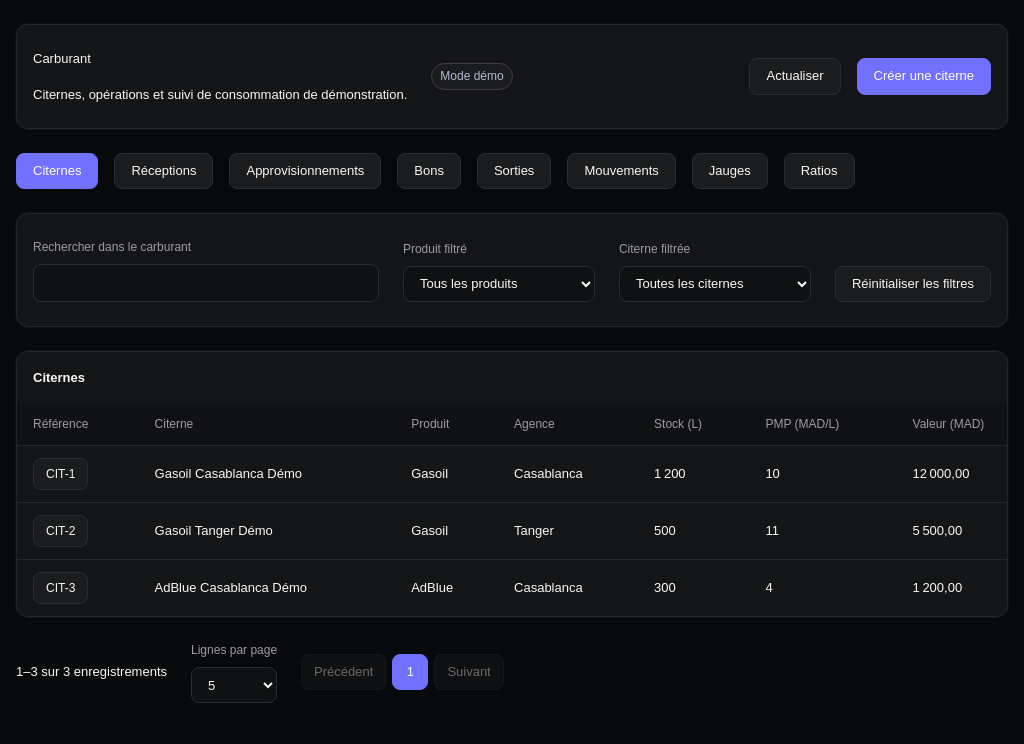
Carburant › uses the issue form and confirms cancellation from its detail
Expected: the table "Citernes" is shown, [17,352,1007,616]
Click the button "Sorties" at (514, 171), box [477,153,551,189]
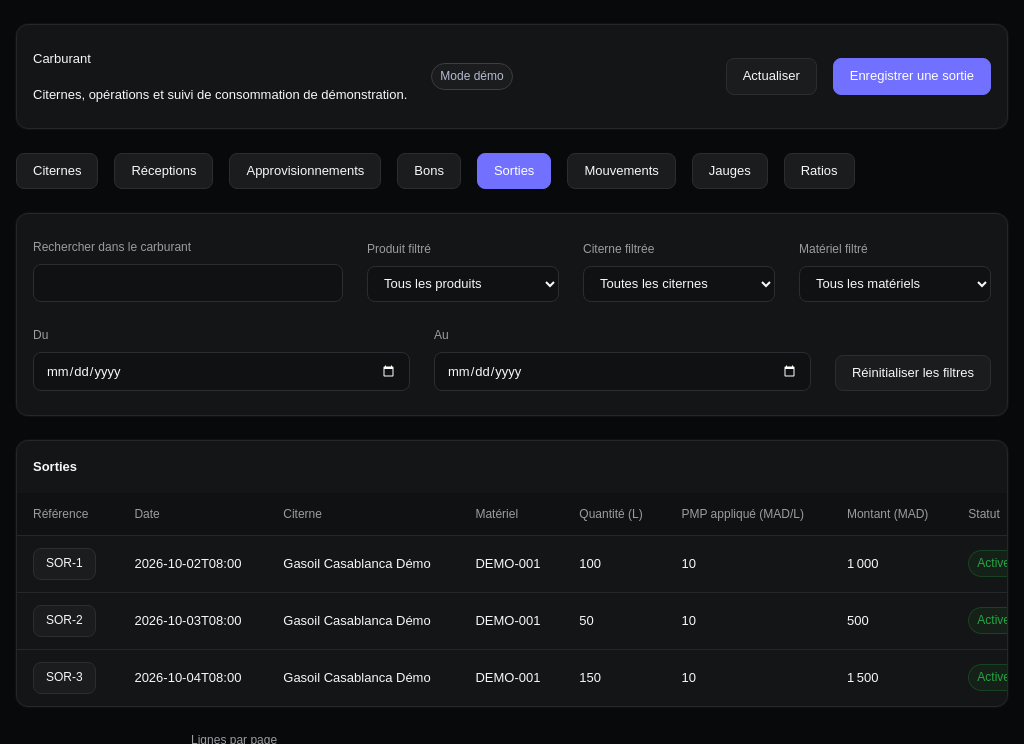
Click the button "Enregistrer une sortie" at (912, 76), box [833,58,991,95]
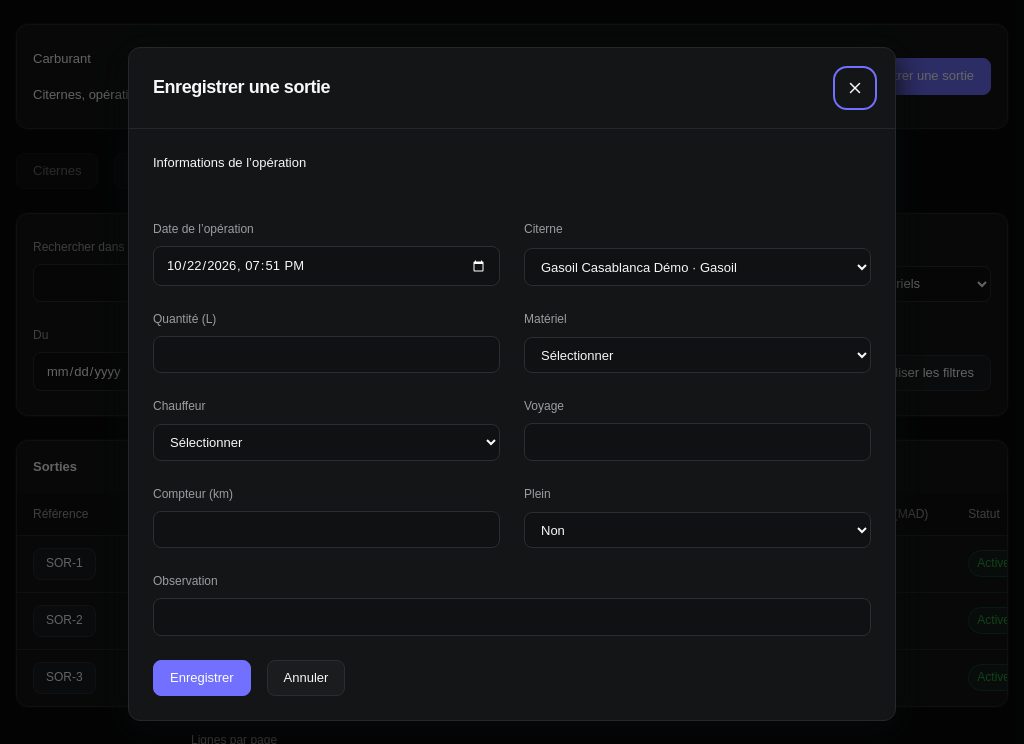
Type "50" into the number field labelled "Quantité (L)" at (326, 355), box [153,336,500,373]
Click the button "Enregistrer" at (202, 678), box [153,660,251,696]
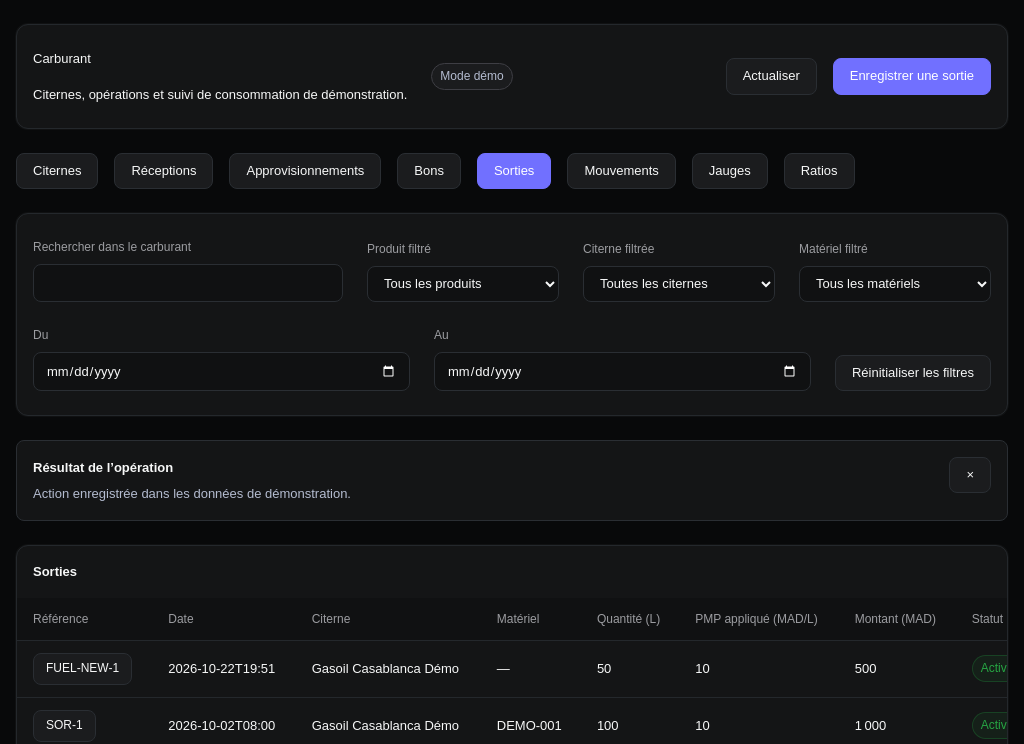
Expected: the dialog is gone
Click the button "FUEL-NEW-1" at (83, 669), box [33,653,132,685]
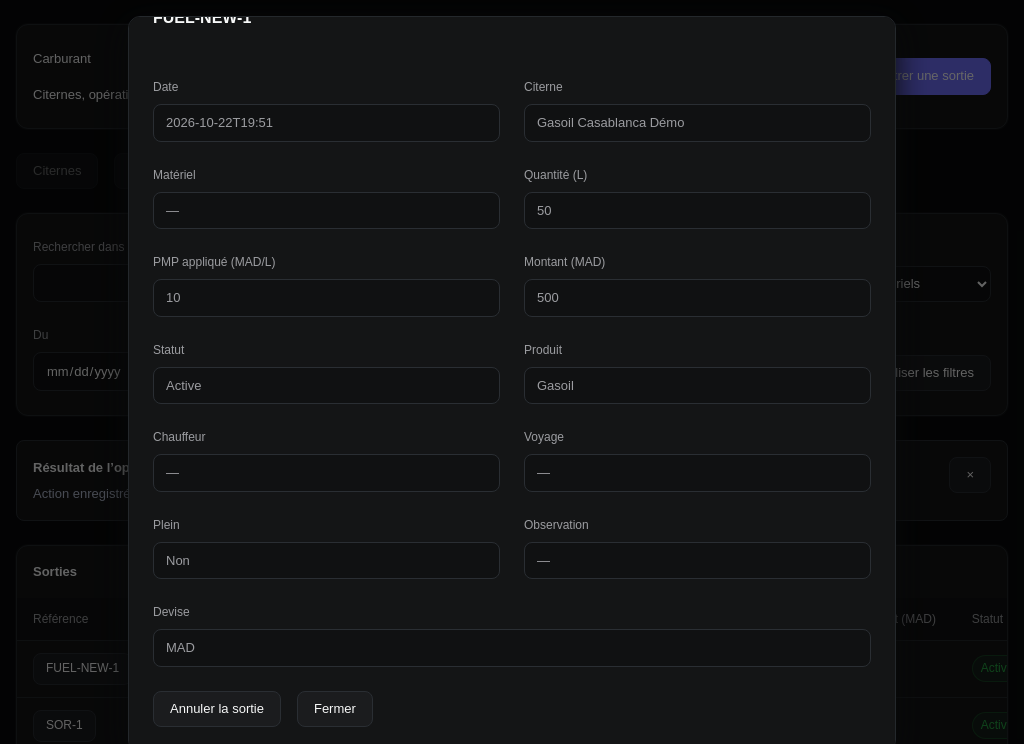
Click the button "Annuler la sortie" at (217, 709), box [153,690,281,727]
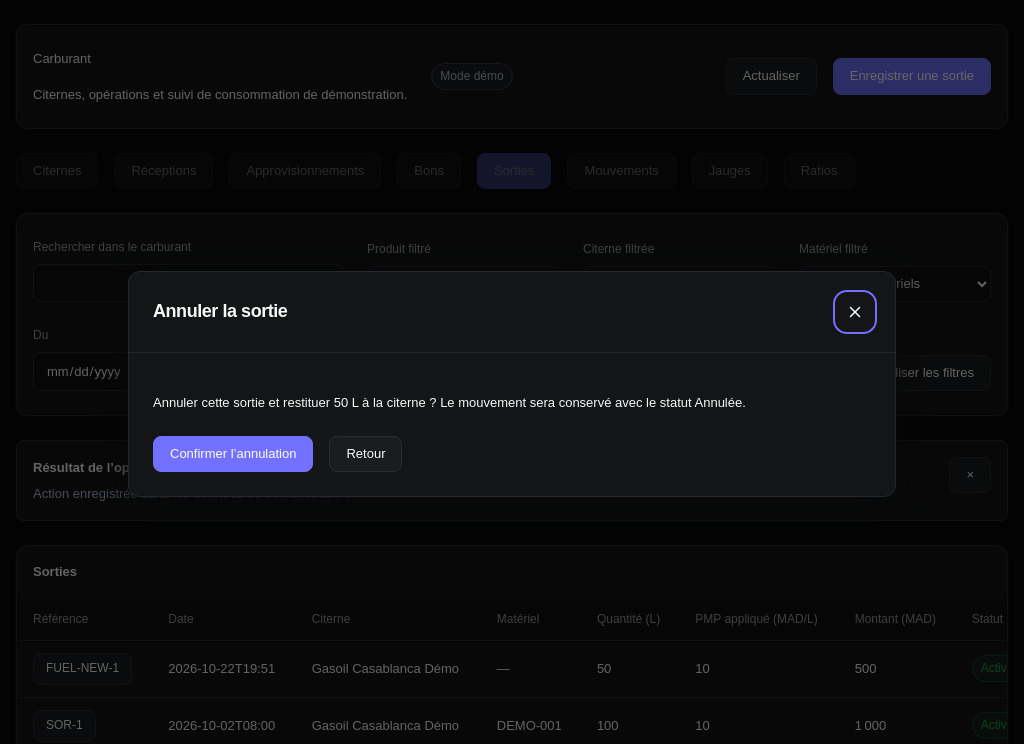
Click the button "Confirmer l’annulation" at (233, 454), box [153,436,314,472]
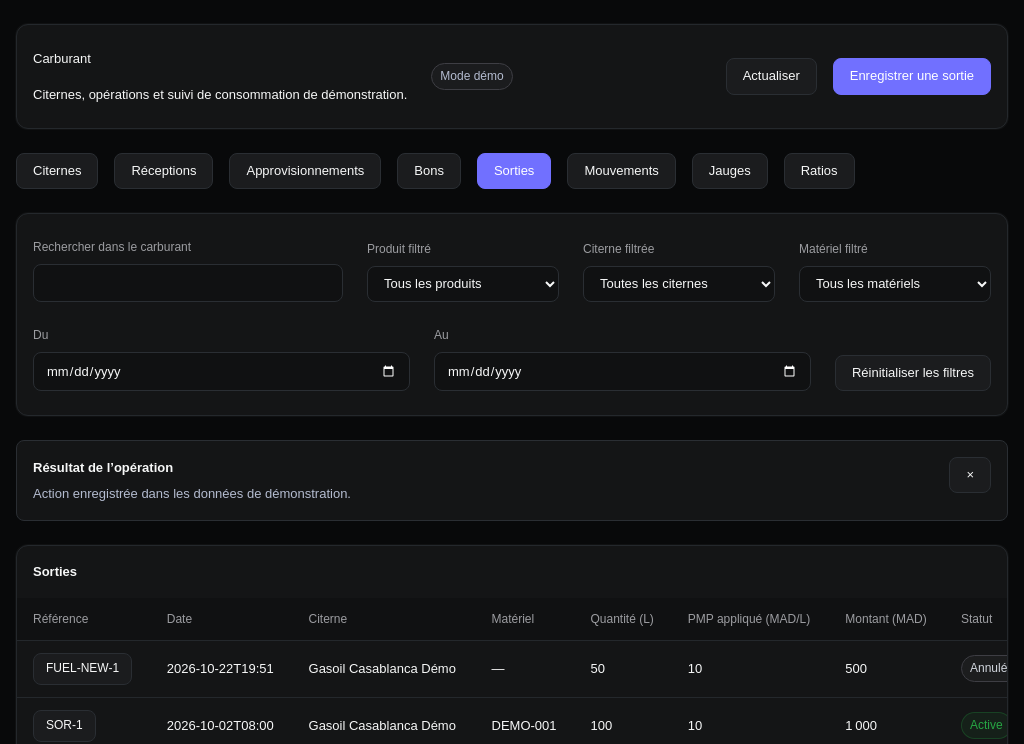
Expected: the dialog is gone
